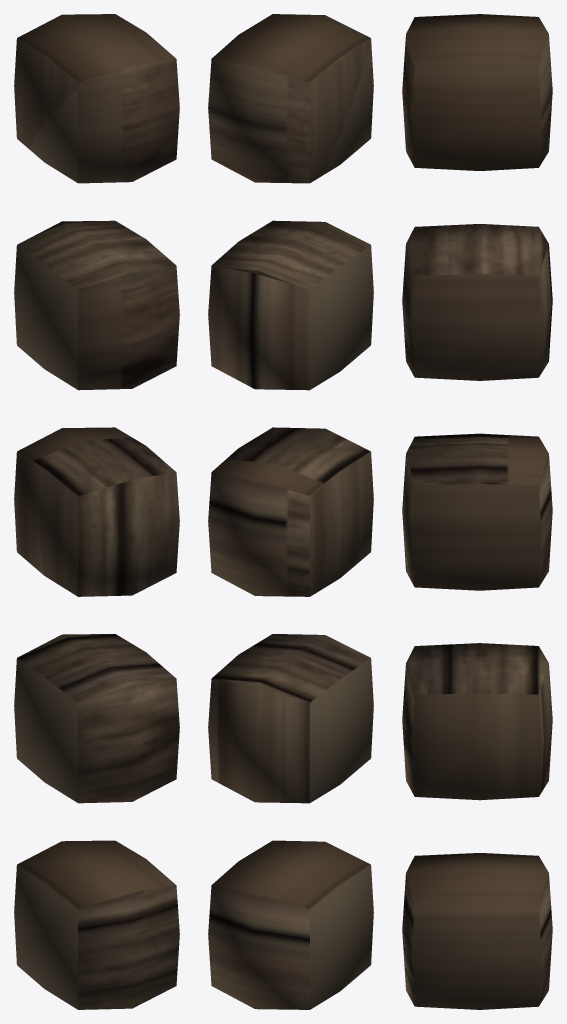
File: PiedrasRefuerzo.fbx
The picture shows the model from 3 angles, left to right: view 1: azimuth 30°, elevation 25°; view 2: azimuth 150°, elevation 25°; view 3: azimuth 270°, elevation 25°; orthographic projection.
Parts seen in each view (by area): view 1: Object138; view 2: Object138; view 3: Object138.
Part boxes in pixels (x1,y1,x2,y2): Object138: [14, 14, 179, 1009]; Object138: [208, 14, 373, 1009]; Object138: [402, 14, 552, 1009].
Size of the model in its own units: 48.32 by 399 by 56.54.
